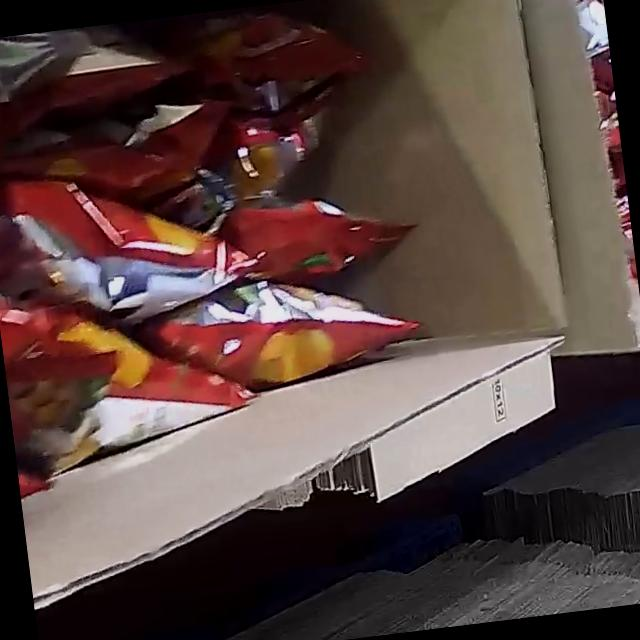masala: (0, 0, 448, 511), (566, 0, 640, 310)
